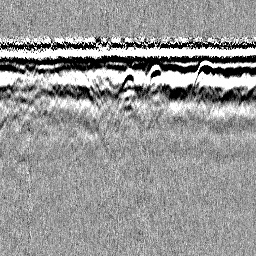cavity: (115, 67, 139, 98)
